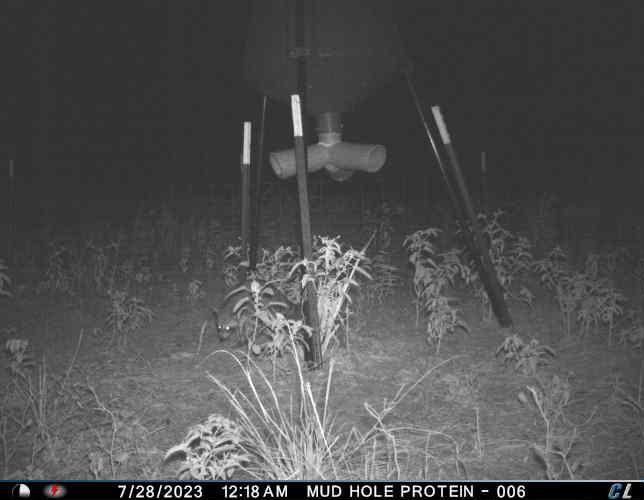Raccoon: (208, 280, 305, 343)
